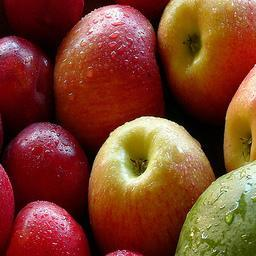apple: (88, 117, 220, 252), (55, 6, 170, 158), (158, 2, 255, 112), (7, 122, 87, 210), (1, 36, 51, 142), (4, 200, 90, 255)
